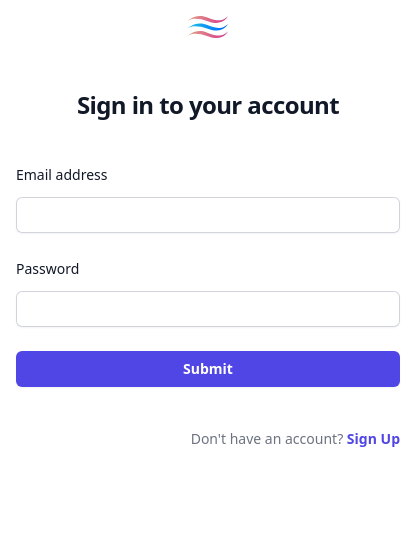
Sign up toggle button on click
The image size is (417, 559).
What coordinates should you click on to do the following:
click the button "Sign Up"
I would click on:
 (373, 439)
Its box is [347,427,400,451].
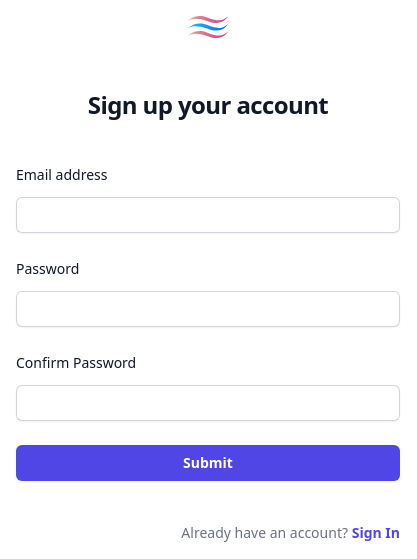
Expected: the heading "Sign up your account" is shown, [88,88,328,121]
